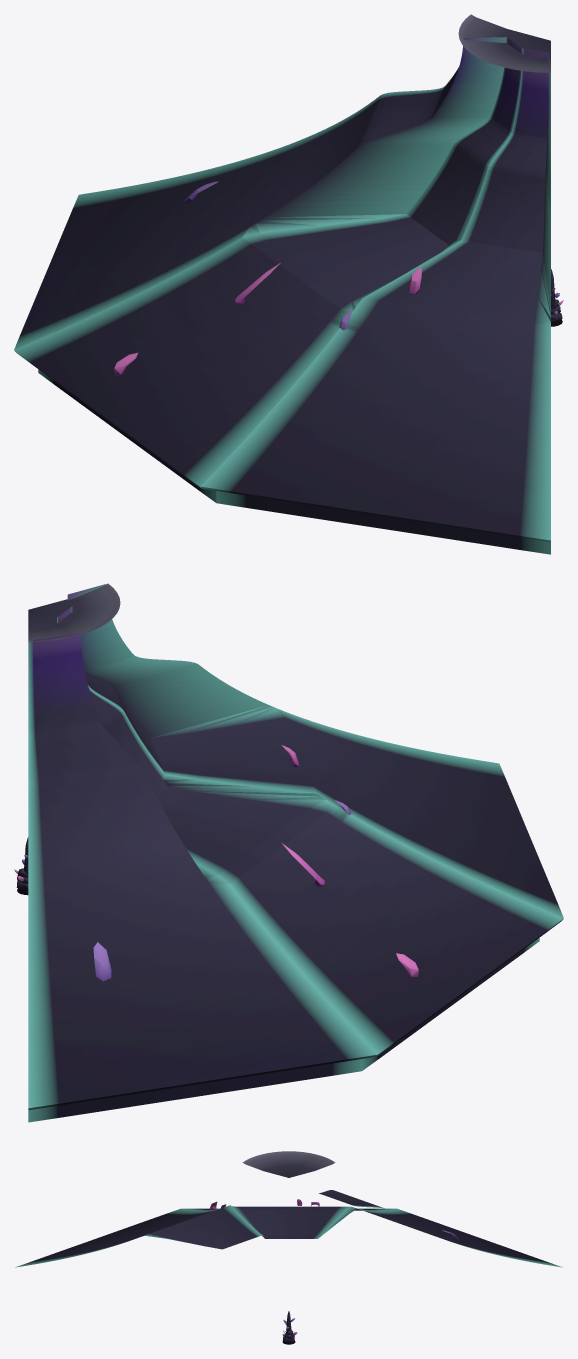
File: caverns-s3-DF1SvbrM.glb
3 renders of one model, top to bottom at view 1: azimuth 30°, elevation 25°; view 2: azimuth 150°, elevation 25°; view 3: azimuth 270°, elevation 25°, orthographic. The views are drawn at different scales.
Visible parts, largest first — view 1: sc_landmark_1; view 2: sc_landmark_1; view 3: sc_landmark_1.
Part boxes in pixels (x1,y1,x2,y2): sc_landmark_1: [14, 14, 550, 554]; sc_landmark_1: [28, 583, 563, 1122]; sc_landmark_1: [15, 1151, 562, 1267].
Size of the model in its own units: 417 by 262 by 746.
